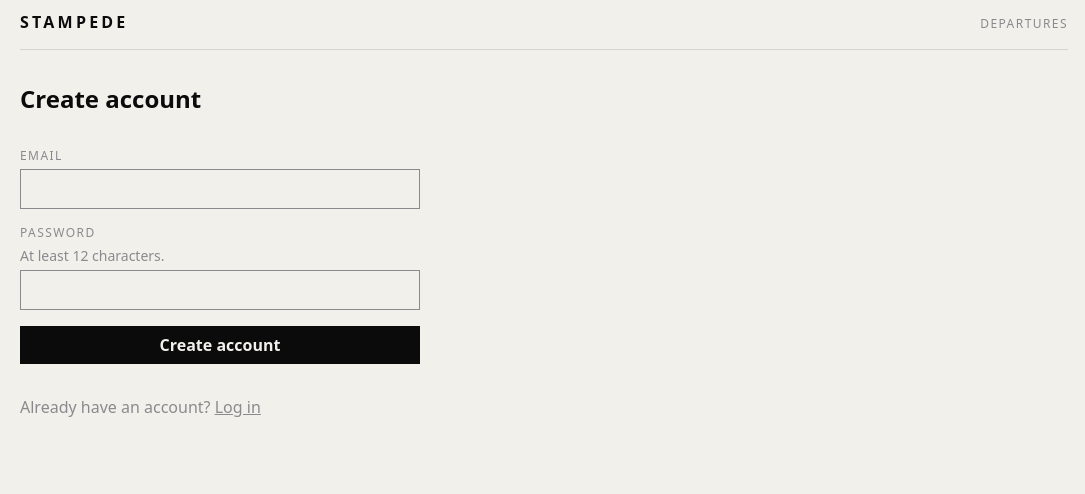
Test: RegisterPage › EMAIL_TAKEN: the message is on the email field, which gets focus
Type "taken@test.local" into the field labelled "Email". click: [220, 189]
box: x1=20 y1=169 x2=420 y2=209
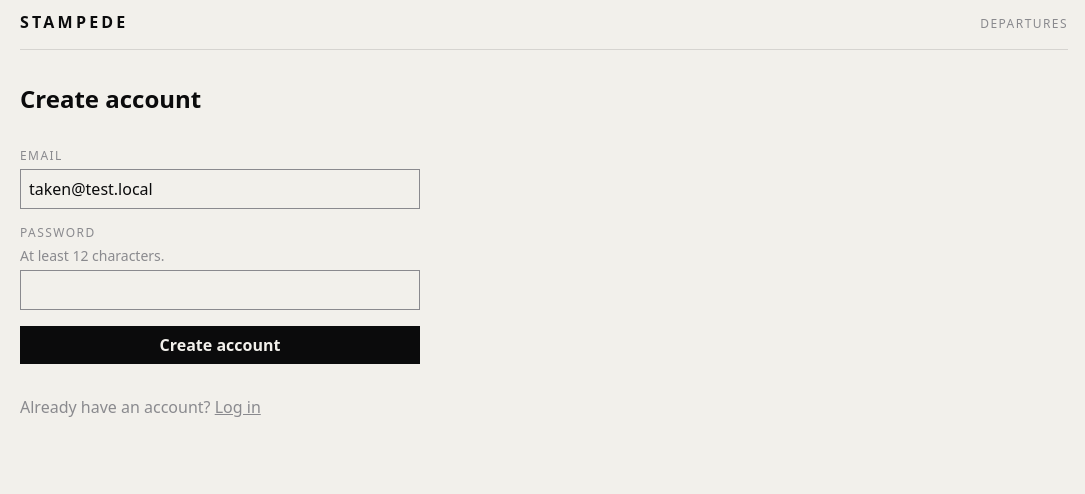
Type "a-long-enough-password" into the password field labelled "Password". click: [220, 290]
box: x1=20 y1=270 x2=420 y2=310
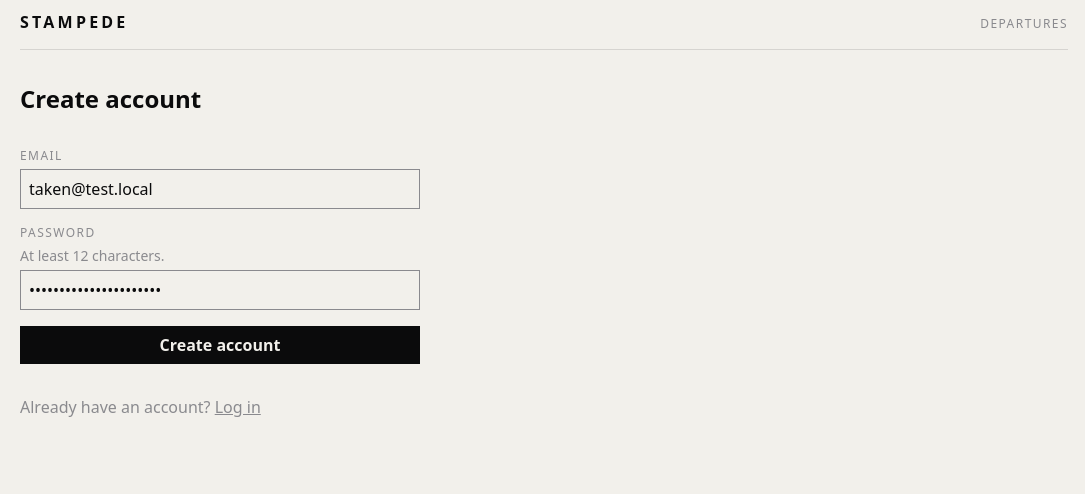
Click the button "Create account". click: [220, 345]
box: x1=20 y1=326 x2=420 y2=364
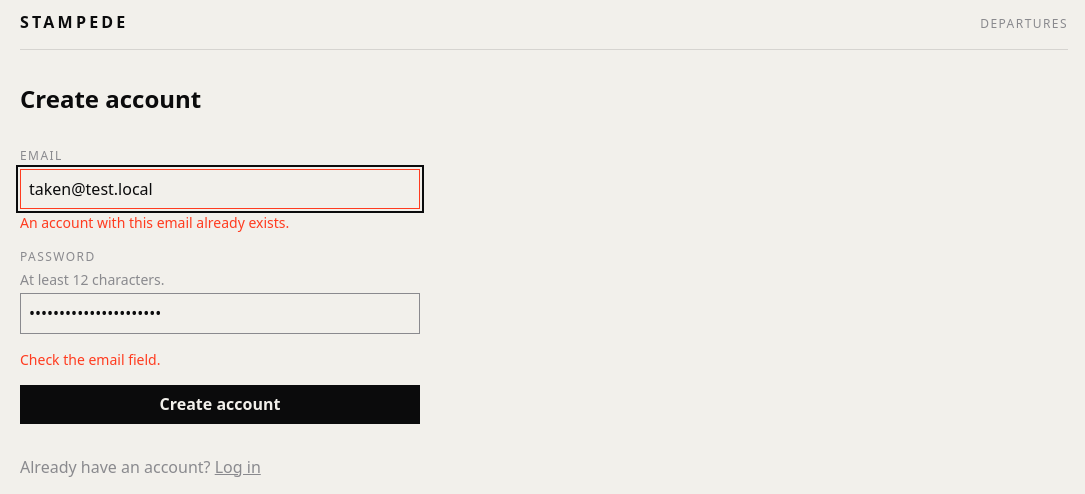
Expected: the message reads "Check the email field.", x1=20 y1=350 x2=160 y2=368
